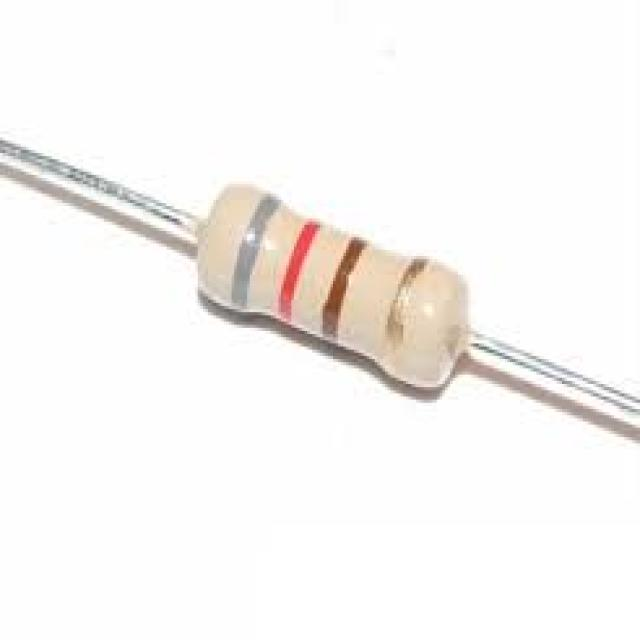Resistor: (196, 180, 467, 388)
